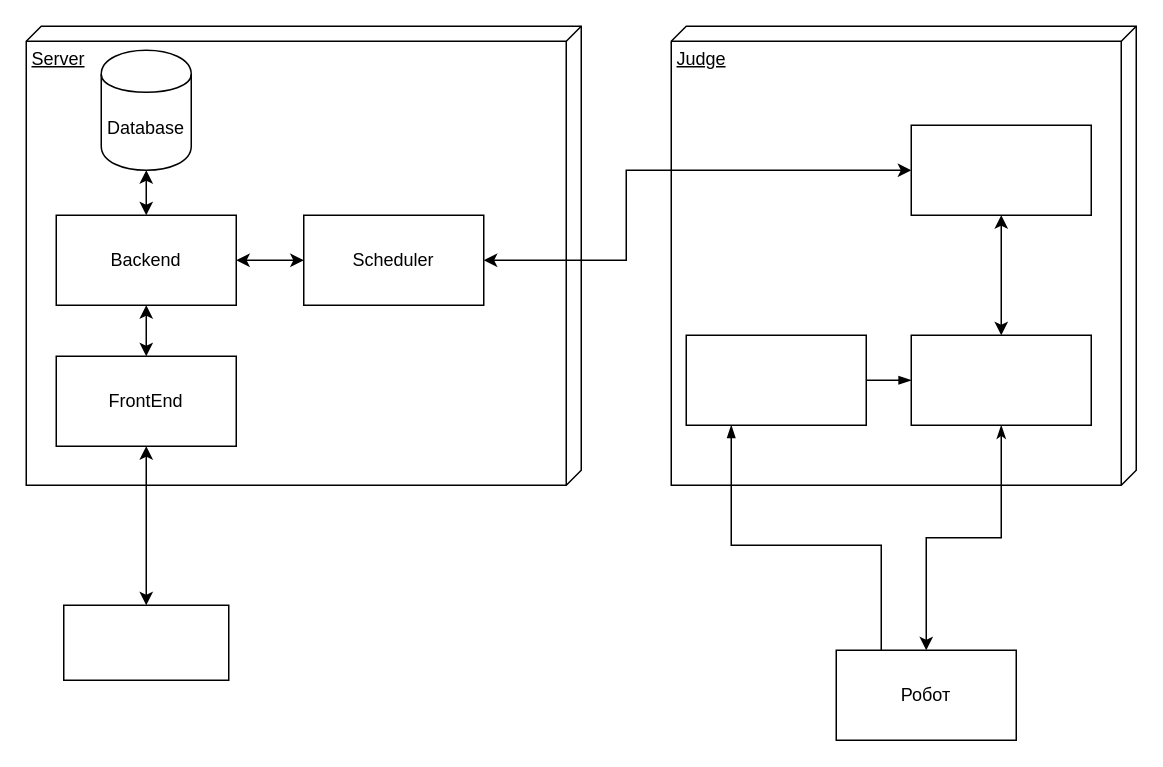
Image size: 1163x767. Some labels were removed from this diagram. The centre of each missing label's shape, as x and y in pixels:
"Judge-Server" belongs at point (1000, 169).
"Robots-Manager" belongs at point (1000, 379).
"Пользователь" belongs at point (145, 642).
"Трекер" belongs at point (775, 379).
